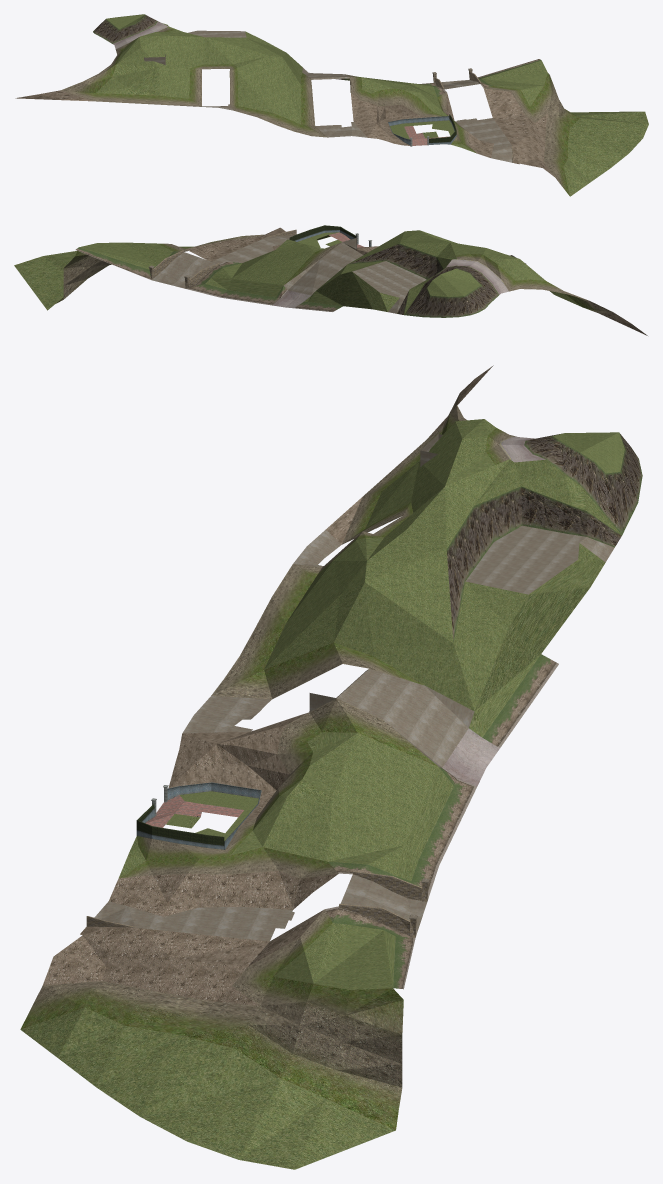
The model's file is ce_hollyhil8a.obj.
The picture shows the model from 3 angles, top to bottom: view 1: azimuth 30°, elevation 25°; view 2: azimuth 150°, elevation 25°; view 3: azimuth 270°, elevation 25°; orthographic projection. The views are drawn at different scales.
Parts seen in each view (by area): view 1: CE_hollyhil8a; view 2: CE_hollyhil8a; view 3: CE_hollyhil8a.
Part boxes in pixels (x1,y1,x2,y2): CE_hollyhil8a: (15,14,648,196); CE_hollyhil8a: (14,225,647,335); CE_hollyhil8a: (20,365,642,1169).
Bounding box in the file's own units: 294 × 76.4 × 136.
